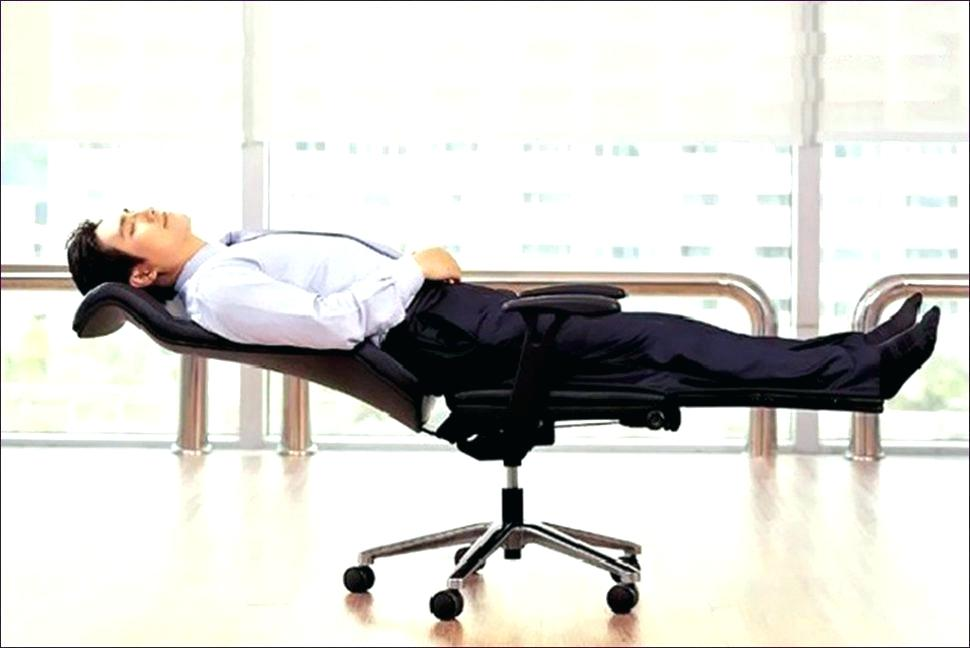chairs: (56, 282, 666, 623)
